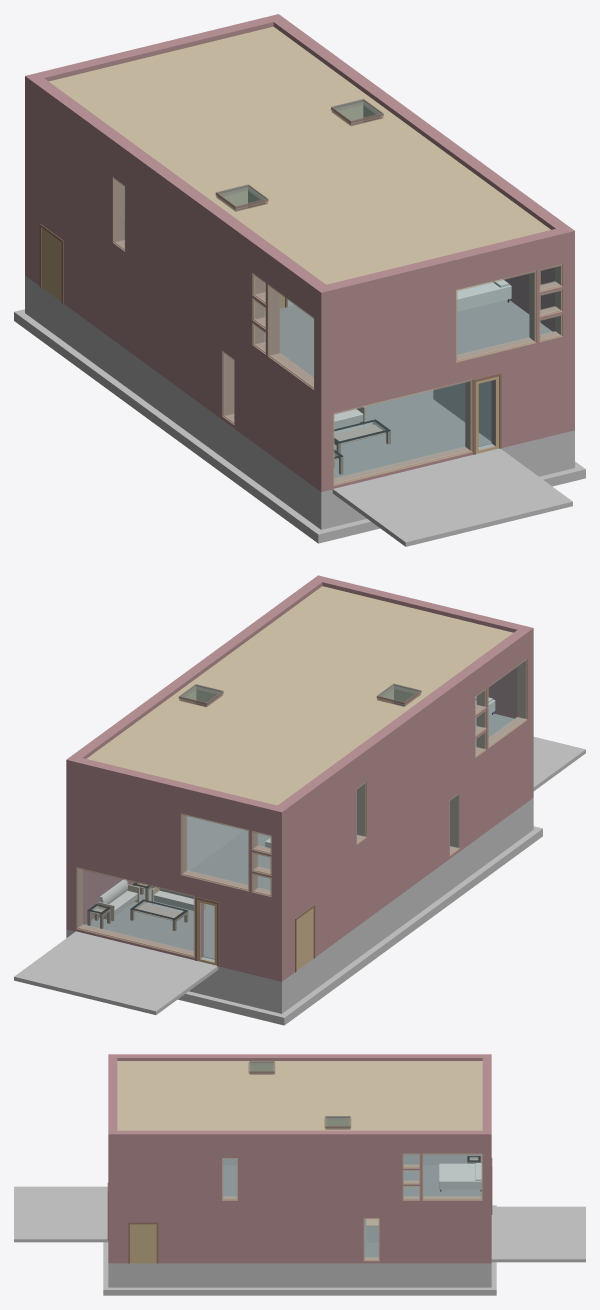
3 renders of one model, top to bottom at view 1: azimuth 30°, elevation 25°; view 2: azimuth 150°, elevation 25°; view 3: azimuth 270°, elevation 25°, orthographic. The views are drawn at different scales.
Parts seen in each view (by area): view 1: 0jf0rYHfX3RAB3bSQRjmxl, 2O2Fr$t4X7Zf8NOew3FNhv, 2O2Fr$t4X7Zf8NOew3FLPP, 2O2Fr$t4X7Zf8NOew3FLOH, 1CZILmCaHETO8tf3SgGEXu, 2O2Fr$t4X7Zf8NOew3FNr2, 2O2Fr$t4X7Zf8NOew3FKE5, 0jf0rYHfX3RAB3bSIRjmr1, 2OBrcmyk58NupXoVOHUtxr, 0jf0rYHfX3RAB3bSIRjmoa, 0jf0rYHfX3RAB3bSIRjmpw, 0kF45Qs8L9PAM9kmb1lT5t (+17 smaller); view 2: 0jf0rYHfX3RAB3bSQRjmxl, 2O2Fr$t4X7Zf8NOew3FNhv, 2O2Fr$t4X7Zf8NOew3FLPP, 2O2Fr$t4X7Zf8NOew3FLQD, 2O2Fr$t4X7Zf8NOew3FNtn, 1CZILmCaHETO8tf3SgGEWh, 2O2Fr$t4X7Zf8NOew3FKE5, 0jf0rYHfX3RAB3bSIRjmr1, 0jf0rYHfX3RAB3bSIRjmmy, 0kF45Qs8L9PAM9kmb1lT5t, 0jf0rYHfX3RAB3bSIRjmpw, 2OBrcmyk58NupXoVOHUtgP (+18 smaller); view 3: 0jf0rYHfX3RAB3bSQRjmxl, 2O2Fr$t4X7Zf8NOew3FNqI, 2O2Fr$t4X7Zf8NOew3FLR9, 2O2Fr$t4X7Zf8NOew3FK9N, 0jf0rYHfX3RAB3bSIRjmpw, 1CZILmCaHETO8tf3SgGEWh, 1CZILmCaHETO8tf3SgGEXu, 0kF45Qs8L9PAM9kmb1lT5d, 0jf0rYHfX3RAB3bSIRjmr1, 1hOSvn6df7F8_7GcBWlRGQ, 2OBrcmyk58NupXoVOHUtDX, 2OBrcmyk58NupXoVOHUtI8 (+6 smaller).
Boxes of the visible parts, box(x1,y1,x2,y2) form: 0jf0rYHfX3RAB3bSQRjmxl: box(49, 26, 550, 284); 2O2Fr$t4X7Zf8NOew3FNhv: box(32, 187, 314, 486); 2O2Fr$t4X7Zf8NOew3FLPP: box(25, 94, 321, 398); 2O2Fr$t4X7Zf8NOew3FLOH: box(321, 249, 574, 398); 1CZILmCaHETO8tf3SgGEXu: box(332, 448, 572, 546); 2O2Fr$t4X7Zf8NOew3FNr2: box(314, 340, 562, 491); 2O2Fr$t4X7Zf8NOew3FKE5: box(32, 281, 314, 524); 0jf0rYHfX3RAB3bSIRjmr1: box(32, 78, 325, 305); 2OBrcmyk58NupXoVOHUtxr: box(334, 389, 491, 478); 0jf0rYHfX3RAB3bSIRjmoa: box(314, 229, 562, 310); 0jf0rYHfX3RAB3bSIRjmpw: box(273, 19, 574, 251); 0kF45Qs8L9PAM9kmb1lT5t: box(14, 309, 309, 532); 0jf0rYHfX3RAB3bSQRjmxl: box(86, 586, 513, 805); 2O2Fr$t4X7Zf8NOew3FNhv: box(287, 722, 527, 977); 2O2Fr$t4X7Zf8NOew3FLPP: box(282, 644, 533, 901); 2O2Fr$t4X7Zf8NOew3FLQD: box(66, 775, 281, 902); 2O2Fr$t4X7Zf8NOew3FNtn: box(66, 850, 287, 981); 1CZILmCaHETO8tf3SgGEWh: box(14, 931, 218, 1014); 2O2Fr$t4X7Zf8NOew3FKE5: box(287, 802, 527, 1009); 0jf0rYHfX3RAB3bSIRjmr1: box(278, 630, 527, 823); 0jf0rYHfX3RAB3bSIRjmmy: box(66, 755, 287, 827); 0kF45Qs8L9PAM9kmb1lT5t: box(262, 836, 530, 1025); 0jf0rYHfX3RAB3bSIRjmpw: box(72, 575, 327, 758); 2OBrcmyk58NupXoVOHUtgP: box(85, 888, 214, 959); 0jf0rYHfX3RAB3bSQRjmxl: box(117, 1061, 482, 1130); 2O2Fr$t4X7Zf8NOew3FNqI: box(108, 1202, 482, 1263); 2O2Fr$t4X7Zf8NOew3FLR9: box(108, 1146, 491, 1202); 2O2Fr$t4X7Zf8NOew3FK9N: box(108, 1263, 482, 1287); 0jf0rYHfX3RAB3bSIRjmpw: box(108, 1130, 482, 1146); 1CZILmCaHETO8tf3SgGEWh: box(491, 1206, 585, 1262); 1CZILmCaHETO8tf3SgGEXu: box(14, 1186, 108, 1242); 0kF45Qs8L9PAM9kmb1lT5d: box(103, 1281, 496, 1295); 0jf0rYHfX3RAB3bSIRjmr1: box(117, 1054, 482, 1060); 1hOSvn6df7F8_7GcBWlRGQ: box(128, 1222, 158, 1263); 2OBrcmyk58NupXoVOHUtDX: box(403, 1165, 481, 1196); 2OBrcmyk58NupXoVOHUtI8: box(439, 1163, 481, 1191).
Bounding box in the file's own units: 9.28 × 8.18 × 26.57.
